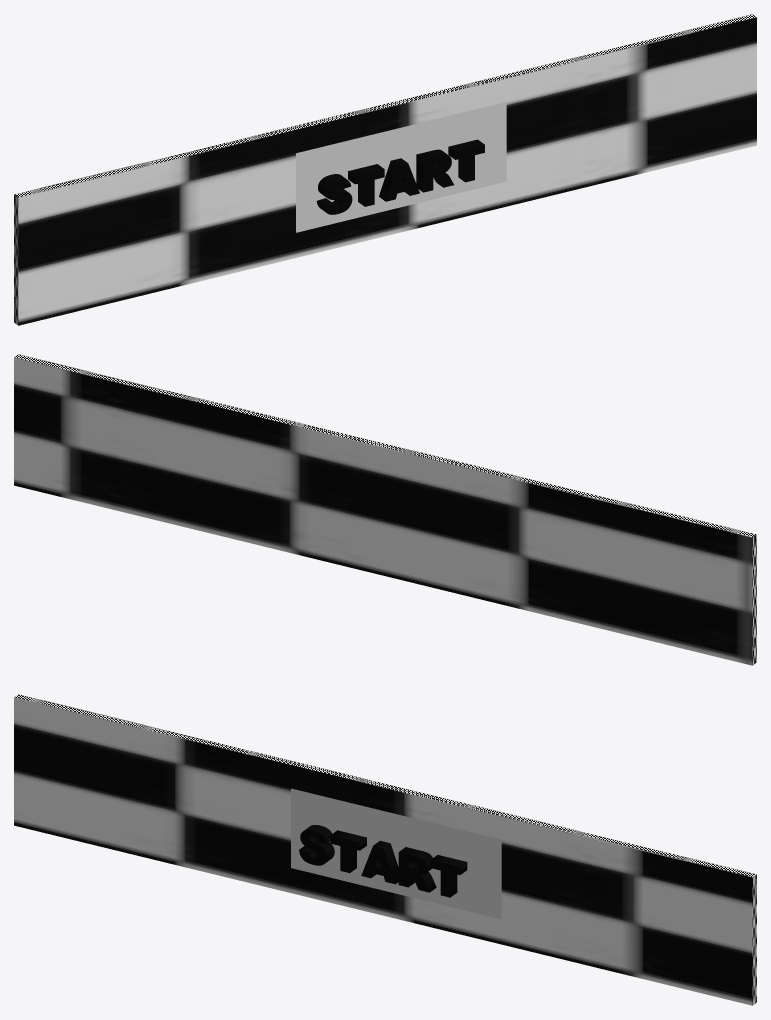
Rendered from start.fbx.
3 views of the same model, one above another, from view 1: azimuth 30°, elevation 25°; view 2: azimuth 150°, elevation 25°; view 3: azimuth 330°, elevation 25° (orthographic).
Visible parts, largest first — view 1: Cube, Plane, Text; view 2: Cube; view 3: Cube, Plane, Text.
Part boxes in pixels (x1,y1,x2,y2): Cube: [14, 14, 756, 325]; Plane: [296, 102, 506, 232]; Text: [316, 139, 484, 214]; Cube: [14, 354, 756, 665]; Cube: [14, 694, 756, 1005]; Plane: [291, 788, 501, 919]; Text: [299, 825, 467, 897].
Size of the model in its own units: 1207 by 200 by 41.22.
